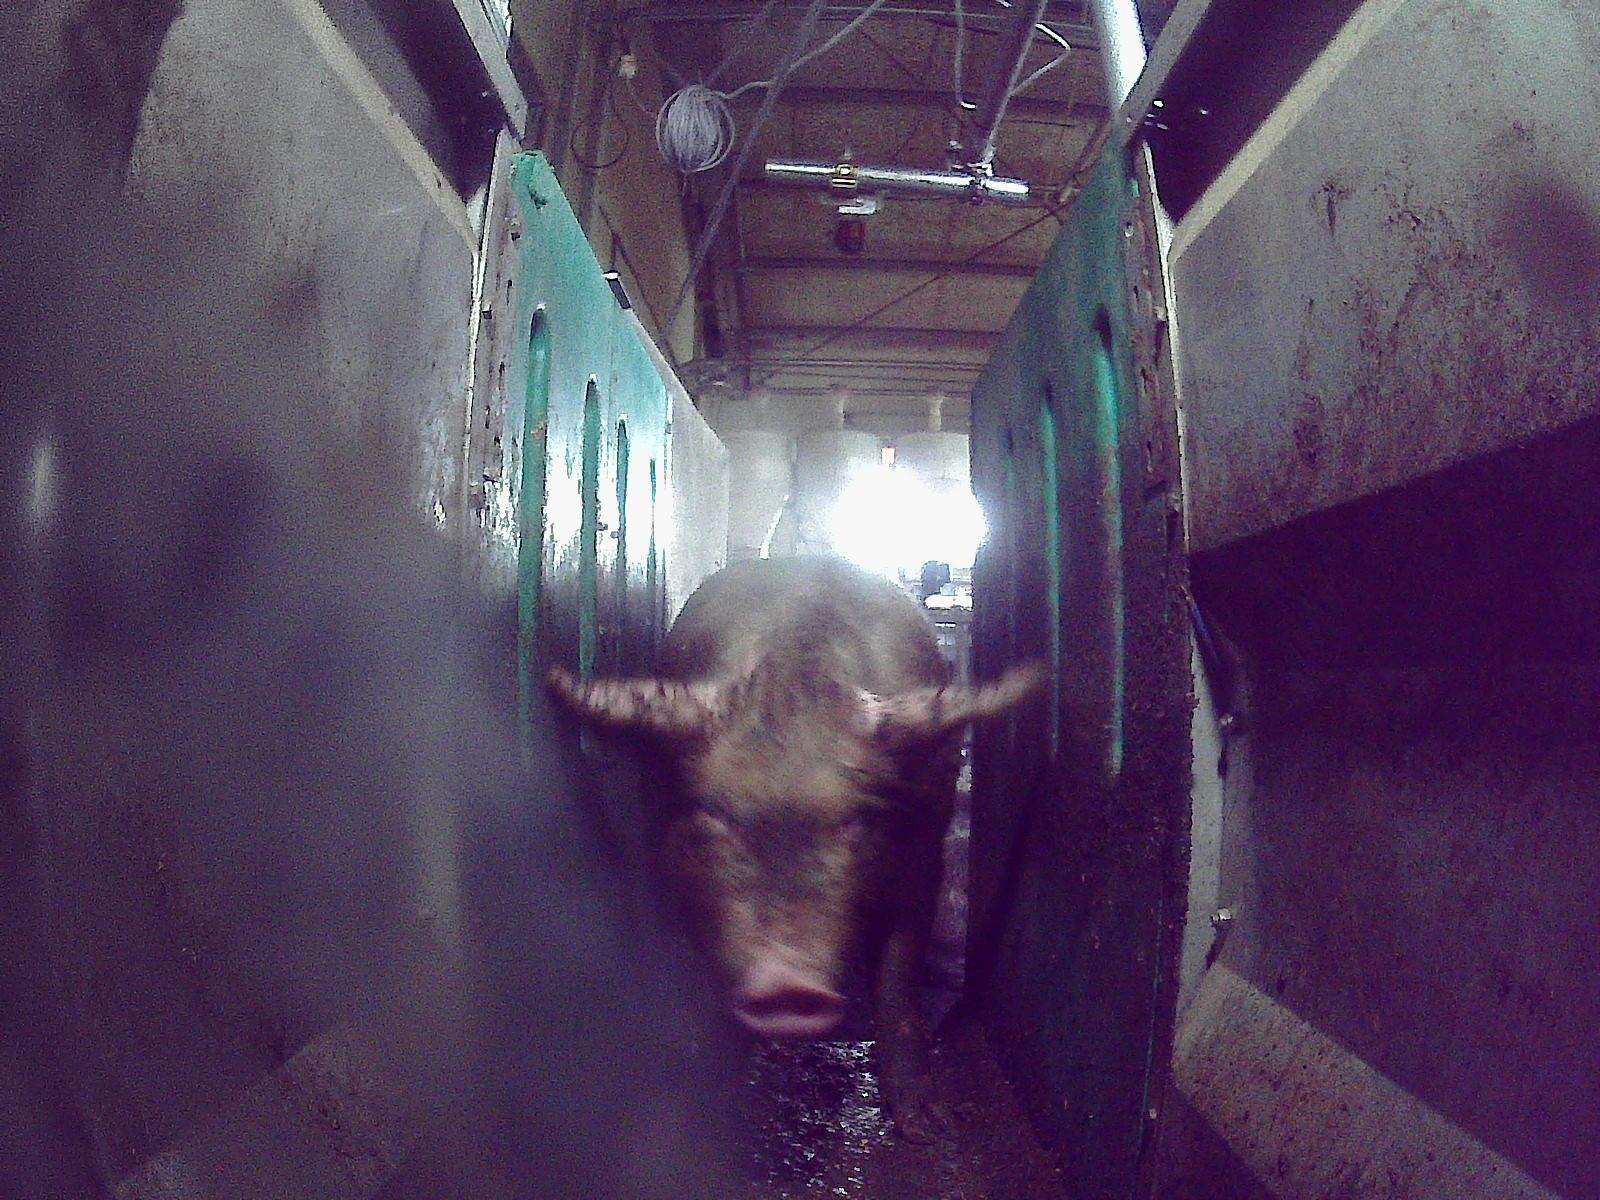Face: (669, 661, 901, 1034)
